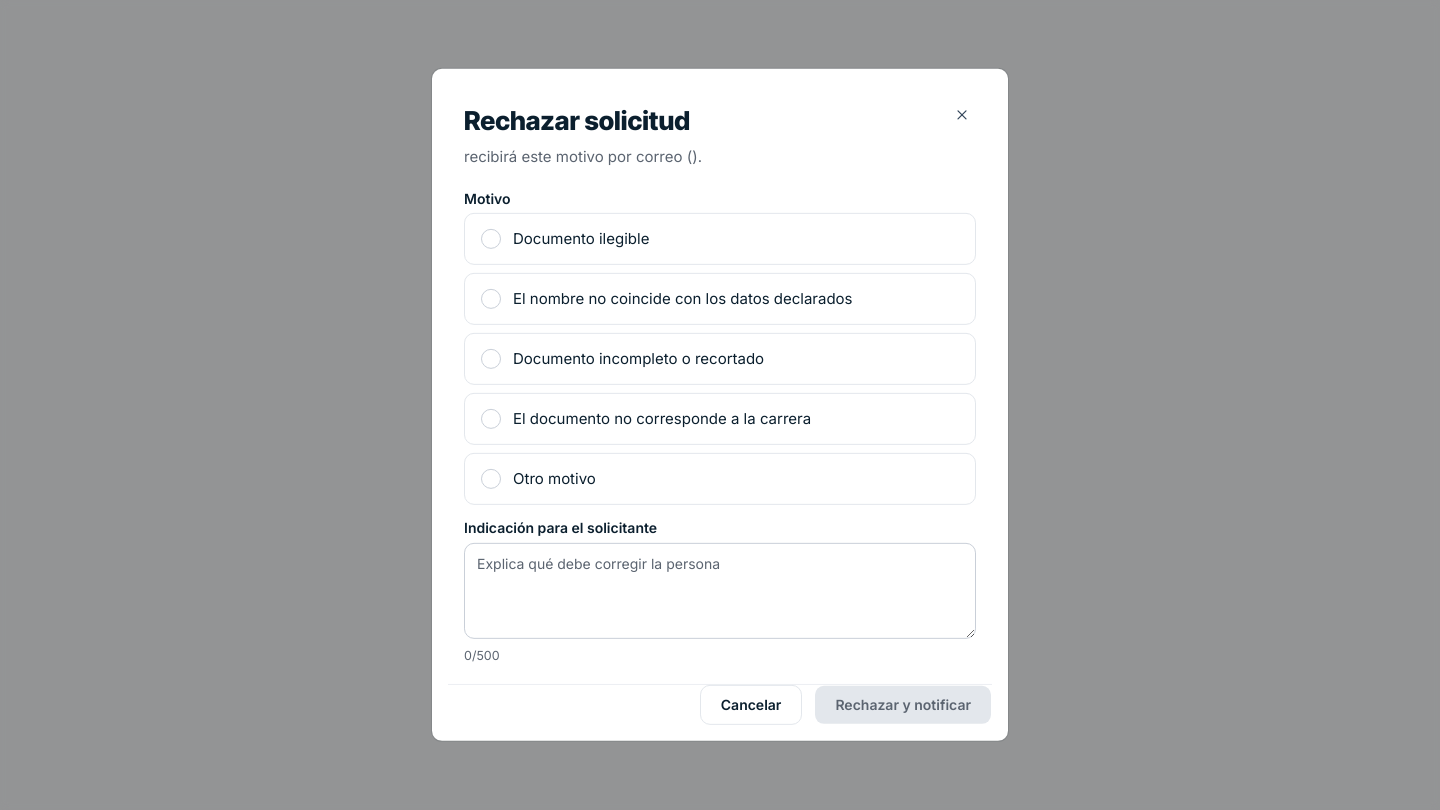
Test case: RejectDialog: estilo › el contador cuenta solo la indicación: 0/500 vacío y sin sumar el motivo elegido
The width and height of the screenshot is (1440, 810).
Check: the text "0/500" is shown, box [464, 648, 500, 663]
Click the radio button "Documento ilegible".
click(581, 238)  # box [464, 213, 976, 265]
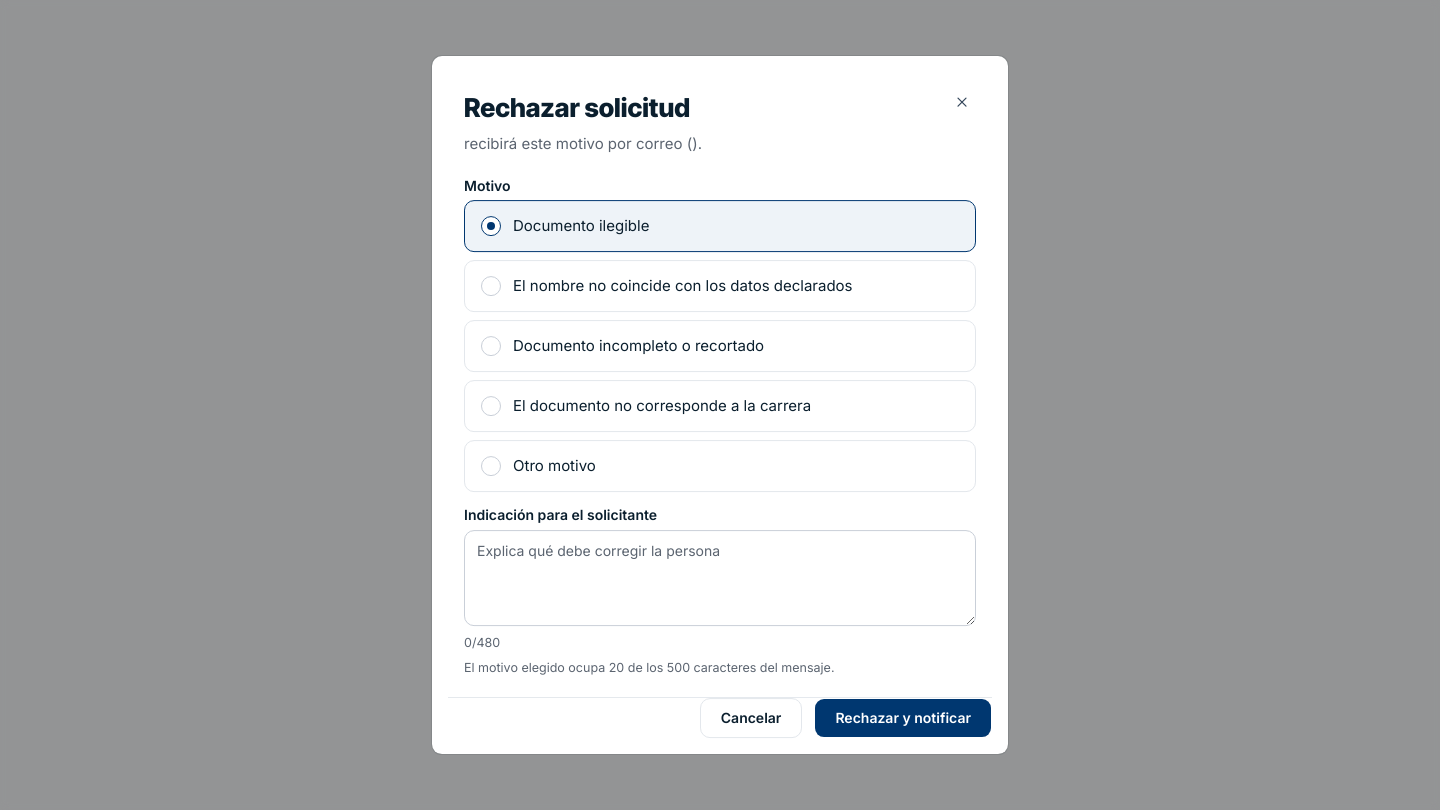
Check: the text "0/480" is shown, box [464, 635, 500, 650]
Check: the text "El motivo elegido ocupa 20 de los 500 caracteres del mensaje." is shown, box [464, 660, 834, 675]
Type "Sube el PDF original." into the text box labelled "Indicación para el solicitante".
click(720, 578); type("Sube el PDF original.")  # box [464, 530, 976, 626]
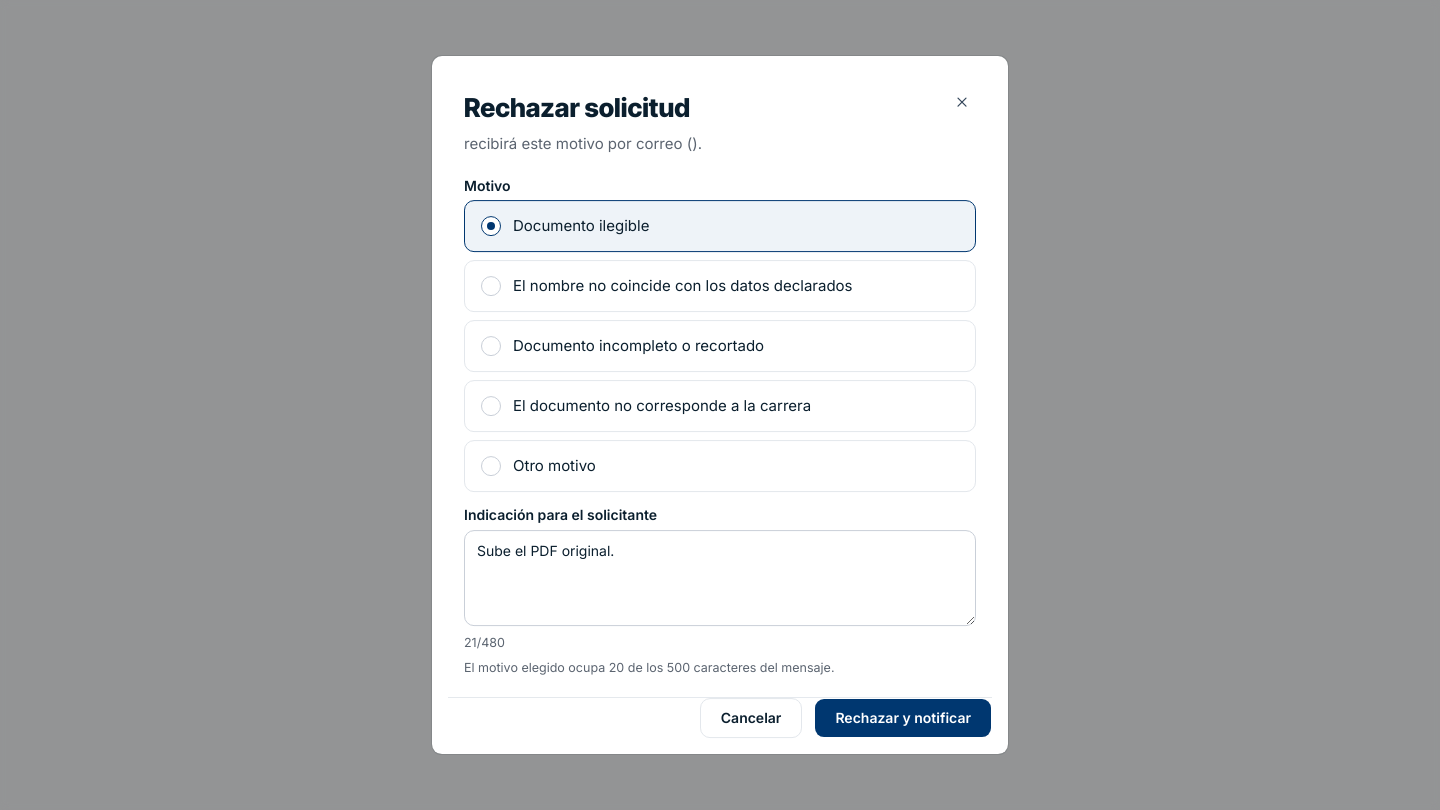
Check: the text "21/480" is shown, box [464, 635, 505, 650]
